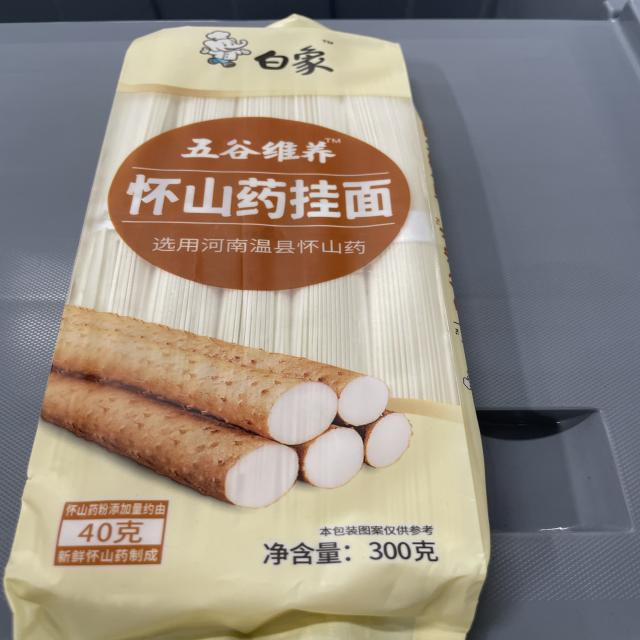object_name: (59, 29, 469, 640)
